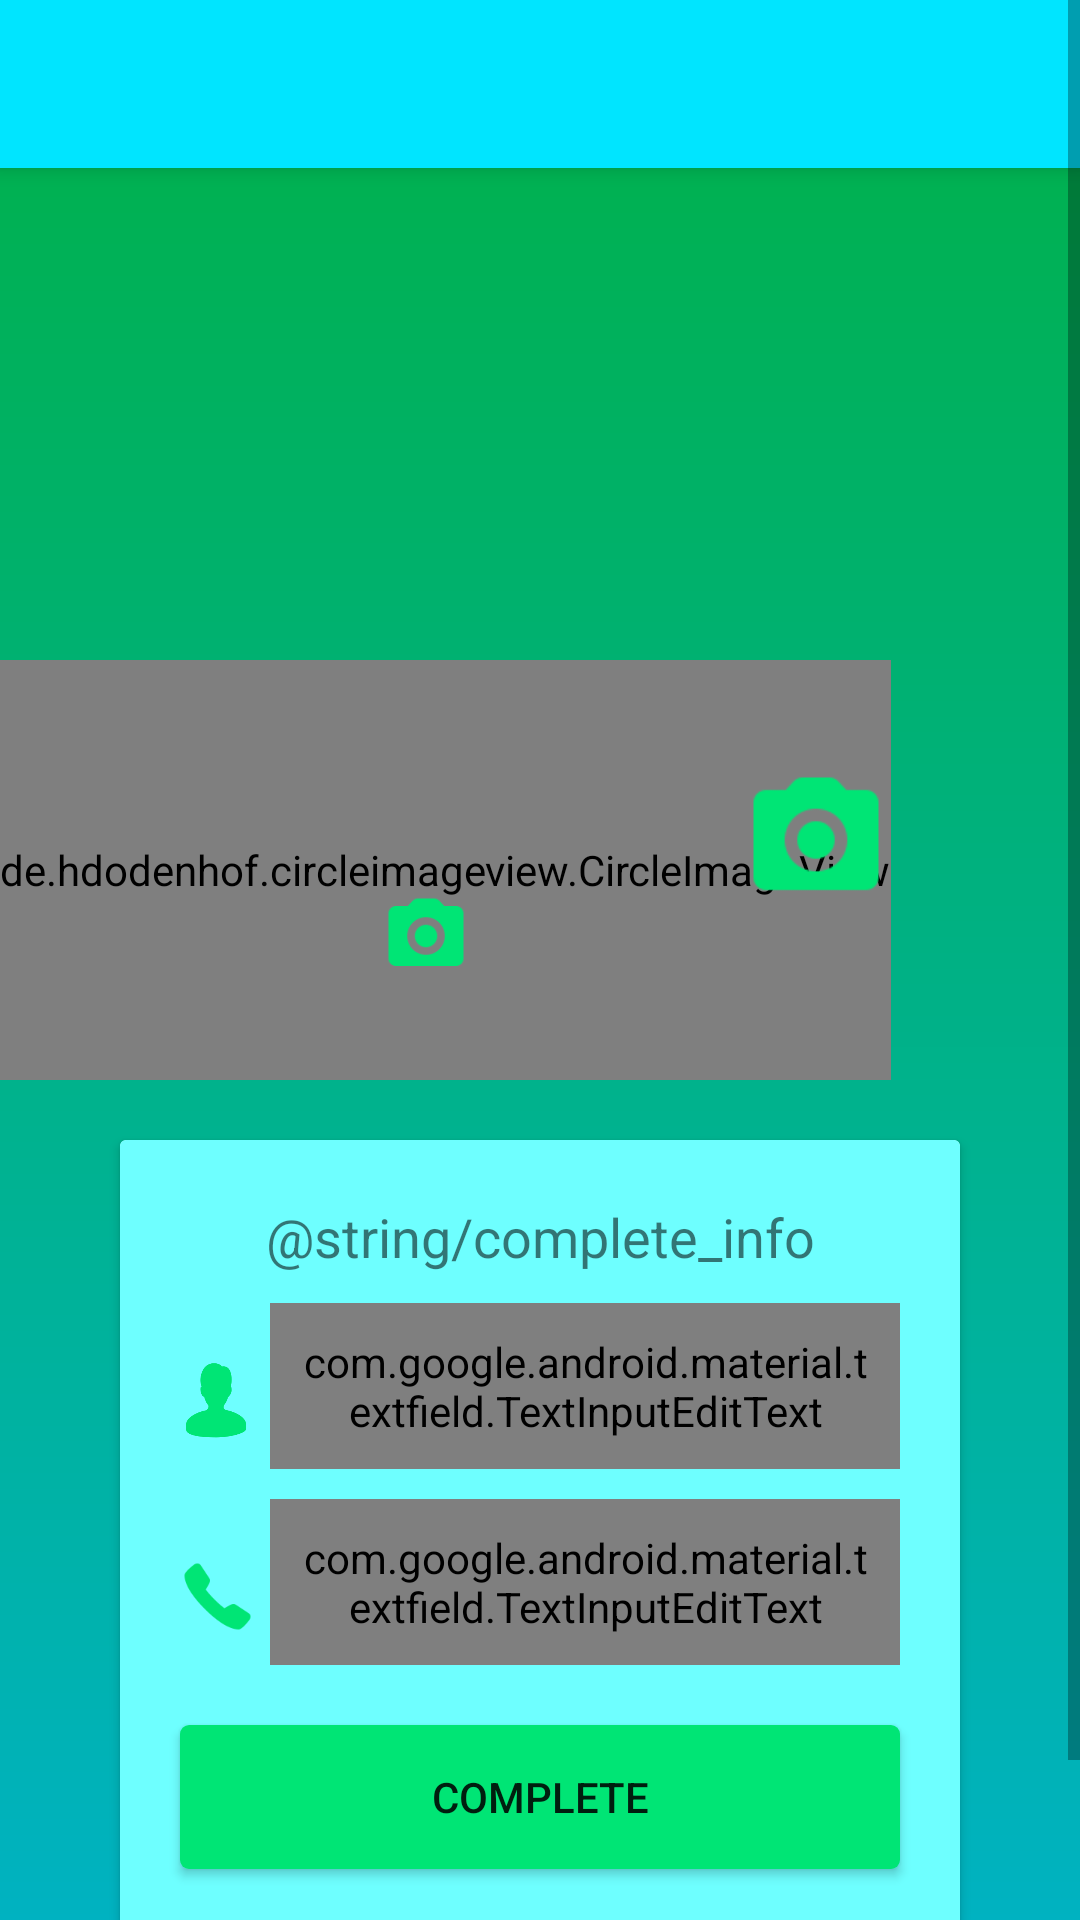

Icon bounding boxes for this 1080×1920 phone screenshot, format (x1, y1, x2, y2):
camera: (753, 777, 889, 895), (388, 898, 464, 966)
